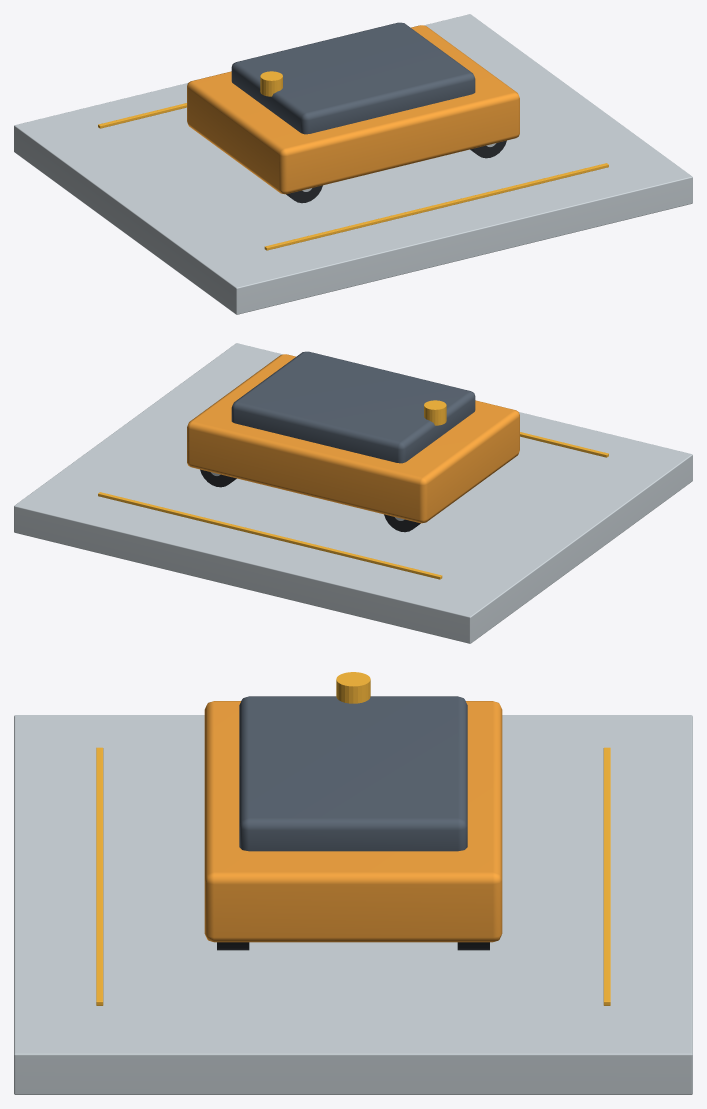
3 views of the same model, one above another, from view 1: azimuth 30°, elevation 25°; view 2: azimuth 150°, elevation 25°; view 3: azimuth 270°, elevation 25° (orthographic). The views are drawn at different scales.
Visible parts, largest first — view 1: Ground plane, Autonomous platform, Top load interface, Concept clearance guide, E-stop button, Concept clearance guide.001; view 2: Ground plane, Autonomous platform, Top load interface, Concept clearance guide.001, E-stop button, Concept clearance guide; view 3: Ground plane, Autonomous platform, Top load interface, Concept clearance guide, Concept clearance guide.001, E-stop button.
Boxes of the visible parts, <box> form: Ground plane: <box>14,14,692,314</box>; Autonomous platform: <box>187,25,519,194</box>; Top load interface: <box>231,22,475,134</box>; Concept clearance guide: <box>264,163,608,250</box>; E-stop button: <box>260,71,282,96</box>; Concept clearance guide.001: <box>98,103,186,128</box>; Ground plane: <box>14,343,692,643</box>; Autonomous platform: <box>187,354,519,523</box>; Top load interface: <box>231,351,475,463</box>; Concept clearance guide.001: <box>98,492,442,579</box>; E-stop button: <box>424,400,446,425</box>; Concept clearance guide: <box>520,432,608,457</box>; Ground plane: <box>14,715,692,1094</box>; Autonomous platform: <box>204,701,502,942</box>; Top load interface: <box>239,696,467,851</box>; Concept clearance guide: <box>96,747,103,1005</box>; Concept clearance guide.001: <box>603,747,610,1005</box>; E-stop button: <box>336,672,370,703</box>.
Bounding box in the file's own units: 2.11 × 0.5378 × 1.78.
